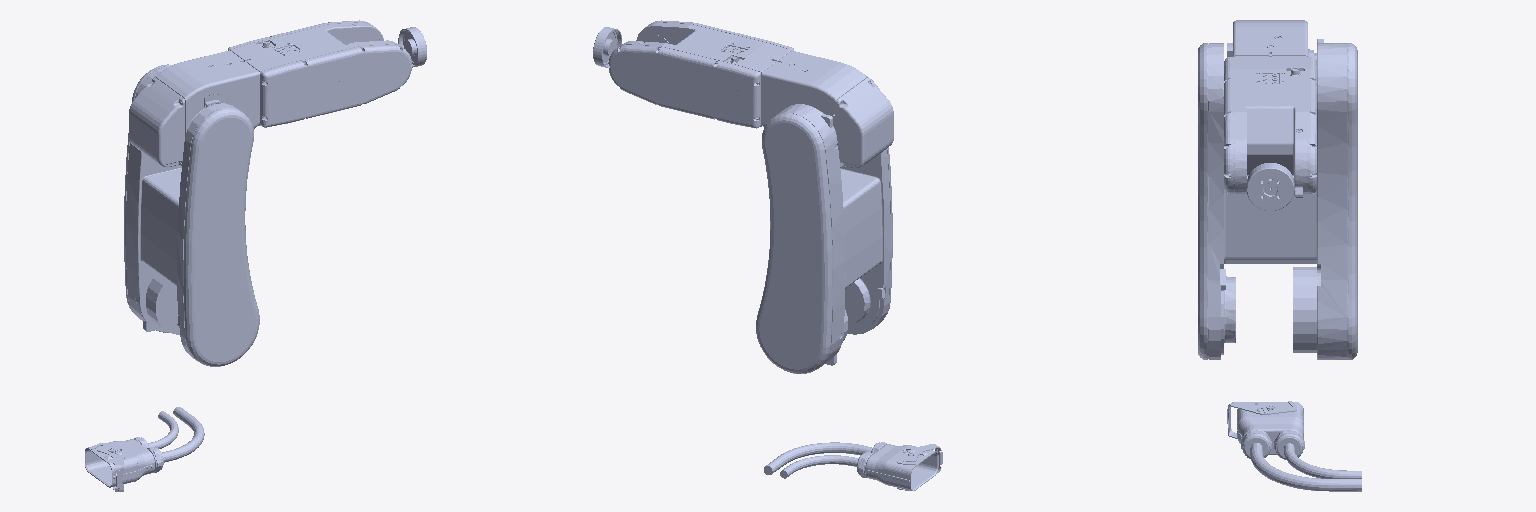
URDF robot description (RA605_710_GB):
<robot
  name="RA605_710_GB">
  <link
    name="base_link">
    <inertial>
      <origin
        xyz="0.00322329614662995 4.35236639886933E-16 -0.005"
        rpy="0 0 0" />
      <mass
        value="39.9992146018366" />
      <inertia
        ixx="13.3336666552129"
        ixy="2.73645750664298E-15"
        ixz="-2.18068724783876E-19"
        iyy="13.3336666552129"
        iyz="-4.65653775686255E-14"
        izz="26.6666666568492" />
    </inertial>
    <visual>
      <origin
        xyz="0 0 0"
        rpy="0 0 0" />
      <geometry>
        <mesh
          filename="package://RA605_710_GB/meshes/base_link.STL" />
      </geometry>
      <material
        name="">
        <color
          rgba="0.792156862745098 0.819607843137255 0.933333333333333 1" />
      </material>
    </visual>
    <collision>
      <origin
        xyz="0 0 0"
        rpy="0 0 0" />
      <geometry>
        <mesh
          filename="package://RA605_710_GB/meshes/base_link.STL" />
      </geometry>
    </collision>
  </link>
  <link
    name="base_Link">
    <inertial>
      <origin
        xyz="-0.0197115625412548 0.118584097089081 0.00272663309408005"
        rpy="0 0 0" />
      <mass
        value="50.6963005253788" />
      <inertia
        ixx="16.5548968121191"
        ixy="0.532783129588136"
        ixz="-0.00034057520373012"
        iyy="26.9234564467821"
        iyz="-0.0543017260136554"
        izz="16.7157961544257" />
    </inertial>
    <visual>
      <origin
        xyz="0 0 0"
        rpy="0 0 0" />
      <geometry>
        <mesh
          filename="package://RA605_710_GB/meshes/base_Link.STL" />
      </geometry>
      <material
        name="">
        <color
          rgba="0.792156862745098 0.819607843137255 0.933333333333333 1" />
      </material>
    </visual>
    <collision>
      <origin
        xyz="0 0 0"
        rpy="0 0 0" />
      <geometry>
        <mesh
          filename="package://RA605_710_GB/meshes/base_Link.STL" />
      </geometry>
    </collision>
  </link>
  <joint
    name="base_fix"
    type="fixed">
    <origin
      xyz="0 0 0"
      rpy="1.5707963267949 0 3.14159265358979" />
    <parent
      link="base_link" />
    <child
      link="base_Link" />
    <axis
      xyz="0 0 0" />
  </joint>
  <link
    name="wire">
    <inertial>
      <origin
        xyz="-0.0725051844188676 0.0266556692847321 0.0973200776244476"
        rpy="0 0 0" />
      <mass
        value="0.21821313758791" />
      <inertia
        ixx="0.000930045437457021"
        ixy="7.05554574080555E-08"
        ixz="-0.0003344023473386"
        iyy="0.00124404162085488"
        iyz="1.27872690899019E-07"
        izz="0.000372837191484093" />
    </inertial>
    <visual>
      <origin
        xyz="0 0 0"
        rpy="0 0 0" />
      <geometry>
        <mesh
          filename="package://RA605_710_GB/meshes/wire.STL" />
      </geometry>
      <material
        name="">
        <color
          rgba="0.792156862745098 0.819607843137255 0.933333333333333 1" />
      </material>
    </visual>
    <collision>
      <origin
        xyz="0 0 0"
        rpy="0 0 0" />
      <geometry>
        <mesh
          filename="package://RA605_710_GB/meshes/wire.STL" />
      </geometry>
    </collision>
  </link>
  <joint
    name="wire"
    type="fixed">
    <origin
      xyz="0.14178 0.09965 0.088375"
      rpy="0 -1.5708 0" />
    <parent
      link="base_Link" />
    <child
      link="wire" />
    <axis
      xyz="0 0 0" />
  </joint>
  <link
    name="Link2">
    <inertial>
      <origin
        xyz="0.019712 0.0027266 -0.10842"
        rpy="0 0 0" />
      <mass
        value="50.696" />
      <inertia
        ixx="16.555"
        ixy="0.00034058"
        ixz="-0.53278"
        iyy="16.716"
        iyz="-0.054302"
        izz="26.923" />
    </inertial>
    <visual>
      <origin
        xyz="0 0 0"
        rpy="0 0 0" />
      <geometry>
        <mesh
          filename="package://RA605_710_GB/meshes/Link2.STL" />
      </geometry>
      <material
        name="">
        <color
          rgba="0.79216 0.81961 0.93333 1" />
      </material>
    </visual>
    <collision>
      <origin
        xyz="0 0 0"
        rpy="0 0 0" />
      <geometry>
        <mesh
          filename="package://RA605_710_GB/meshes/Link2.STL" />
      </geometry>
    </collision>
  </link>
  <joint
    name="joint2"
    type="continuous">
    <origin
      xyz="0 0.227 0"
      rpy="1.5707963267949 -1.22460635382238E-16 -3.14159265358979" />
    <parent
      link="base_Link" />
    <child
      link="Link2" />
    <axis
      xyz="0 0 1" />
  </joint>
  <link
    name="Link3">
    <inertial>
      <origin
        xyz="-0.0098112 0.018062 0.15034"
        rpy="0 0 0" />
      <mass
        value="7.4696" />
      <inertia
        ixx="0.1459"
        ixy="-0.00043183"
        ixz="0.00057326"
        iyy="0.11313"
        iyz="0.00031929"
        izz="0.049061" />
    </inertial>
    <visual>
      <origin
        xyz="0 0 0"
        rpy="0 0 0" />
      <geometry>
        <mesh
          filename="package://RA605_710_GB/meshes/Link3.STL" />
      </geometry>
      <material
        name="">
        <color
          rgba="0.79216 0.81961 0.93333 1" />
      </material>
    </visual>
    <collision>
      <origin
        xyz="0 0 0"
        rpy="0 0 0" />
      <geometry>
        <mesh
          filename="package://RA605_710_GB/meshes/Link3.STL" />
      </geometry>
    </collision>
  </link>
  <joint
    name="joint3"
    type="continuous">
    <origin
      xyz="0.033223 0 0.148"
      rpy="0 0 0" />
    <parent
      link="Link2" />
    <child
      link="Link3" />
    <axis
      xyz="0 1 0" />
  </joint>
  <link
    name="Link4">
    <inertial>
      <origin
        xyz="-0.013512 0.0027266 -0.59642"
        rpy="0 0 0" />
      <mass
        value="50.696" />
      <inertia
        ixx="16.555"
        ixy="0.00034058"
        ixz="-0.53278"
        iyy="16.716"
        iyz="-0.054302"
        izz="26.923" />
    </inertial>
    <visual>
      <origin
        xyz="0 0 0"
        rpy="0 0 0" />
      <geometry>
        <mesh
          filename="package://RA605_710_GB/meshes/Link4.STL" />
      </geometry>
      <material
        name="">
        <color
          rgba="0.79216 0.81961 0.93333 1" />
      </material>
    </visual>
    <collision>
      <origin
        xyz="0 0 0"
        rpy="0 0 0" />
      <geometry>
        <mesh
          filename="package://RA605_710_GB/meshes/Link4.STL" />
      </geometry>
    </collision>
  </link>
  <joint
    name="joint4"
    type="continuous">
    <origin
      xyz="0 0 0.34"
      rpy="0 0 0" />
    <parent
      link="Link3" />
    <child
      link="Link4" />
    <axis
      xyz="0 1 0" />
  </joint>
  <link
    name="Link5">
    <inertial>
      <origin
        xyz="0.11355 -4.9558E-05 -6.7458E-05"
        rpy="0 0 0" />
      <mass
        value="2.9699" />
      <inertia
        ixx="0.0070689"
        ixy="7.7383E-06"
        ixz="-1.1277E-06"
        iyy="0.017626"
        iyz="4.1381E-06"
        izz="0.019679" />
    </inertial>
    <visual>
      <origin
        xyz="0 0 0"
        rpy="0 0 0" />
      <geometry>
        <mesh
          filename="package://RA605_710_GB/meshes/Link5.STL" />
      </geometry>
      <material
        name="">
        <color
          rgba="0.79216 0.81961 0.93333 1" />
      </material>
    </visual>
    <collision>
      <origin
        xyz="0 0 0"
        rpy="0 0 0" />
      <geometry>
        <mesh
          filename="package://RA605_710_GB/meshes/Link5.STL" />
      </geometry>
    </collision>
  </link>
  <joint
    name="joint5"
    type="continuous">
    <origin
      xyz="0.09900000000002 0 0.0399999999979752"
      rpy="0 0 0" />
    <parent
      link="Link4" />
    <child
      link="Link5" />
    <axis
      xyz="1 0 0" />
  </joint>
  <link
    name="Link6">
    <inertial>
      <origin
        xyz="0.03645 0.00025111 -0.016042"
        rpy="0 0 0" />
      <mass
        value="1" />
      <inertia
        ixx="1.8401E-10"
        ixy="7.8323E-26"
        ixz="-4.0836E-27"
        iyy="2.0089E-12"
        iyz="2.1784E-14"
        izz="1.8201E-10" />
    </inertial>
    <visual>
      <origin
        xyz="0 0 0"
        rpy="0 0 0" />
      <geometry>
        <mesh
          filename="package://RA605_710_GB/meshes/Link6.STL" />
      </geometry>
      <material
        name="">
        <color
          rgba="0.79216 0.81961 0.93333 1" />
      </material>
    </visual>
    <collision>
      <origin
        xyz="0 0 0"
        rpy="0 0 0" />
      <geometry>
        <mesh
          filename="package://RA605_710_GB/meshes/Link6.STL" />
      </geometry>
    </collision>
  </link>
  <joint
    name="joint6"
    type="continuous">
    <origin
      xyz="0.239000000000001 0 0"
      rpy="0 0 0" />
    <parent
      link="Link5" />
    <child
      link="Link6" />
    <axis
      xyz="1 0 0" />
  </joint>
  <link
    name="Link7">
    <inertial>
      <origin
        xyz="-0.006961 7.9999E-08 -5.6016E-05"
        rpy="0 0 0" />
      <mass
        value="0.039323" />
      <inertia
        ixx="2.1351E-05"
        ixy="-4.0583E-12"
        ixz="7.3243E-09"
        iyy="1.1532E-05"
        iyz="2.0856E-12"
        izz="1.1567E-05" />
    </inertial>
    <visual>
      <origin
        xyz="0 0 0"
        rpy="0 0 0" />
      <geometry>
        <mesh
          filename="package://RA605_710_GB/meshes/Link7.STL" />
      </geometry>
      <material
        name="">
        <color
          rgba="0.79216 0.81961 0.93333 1" />
      </material>
    </visual>
    <collision>
      <origin
        xyz="0 0 0"
        rpy="0 0 0" />
      <geometry>
        <mesh
          filename="package://RA605_710_GB/meshes/Link7.STL" />
      </geometry>
    </collision>
  </link>
  <joint
    name="joint7"
    type="continuous">
    <origin
      xyz="0.0864999999999757 0 0"
      rpy="0 0 0" />
    <parent
      link="Link6" />
    <child
      link="Link7" />
    <axis
      xyz="1 0 0" />
  </joint>
</robot>

--- Render facts (derived) ---
The picture shows the robot from 3 angles, left to right: view 1: azimuth 30°, elevation 25°; view 2: azimuth 150°, elevation 25°; view 3: azimuth 270°, elevation 25°; orthographic projection.
Robot: RA605_710_GB — 9 links, 8 joints (6 continuous, 2 fixed); root link base_link; default pose: all joints at 0.
Links seen in each view (by area): view 1: Link3, Link5, Link4, wire, Link7; view 2: Link3, Link5, Link4, wire, Link7; view 3: Link3, Link5, wire, Link4, Link7.
Link boxes in pixels (x1,y1,x2,y2): Link3: [124, 64, 259, 366]; Link5: [228, 20, 411, 127]; Link4: [129, 50, 259, 166]; wire: [85, 407, 204, 491]; Link7: [398, 27, 426, 67]; Link3: [756, 74, 892, 373]; Link5: [608, 20, 793, 128]; Link4: [762, 51, 893, 167]; wire: [764, 442, 942, 490]; Link7: [593, 27, 621, 67]; Link3: [1198, 39, 1357, 359]; Link5: [1224, 56, 1316, 197]; wire: [1227, 401, 1361, 491]; Link4: [1227, 20, 1313, 56]; Link7: [1247, 163, 1294, 210].
Bounding box of the posed robot: 0.6111 × 0.2259 × 0.7145 m (x, y, z).
6 mesh visuals loaded from 9 distinct referenced files (6 binary STL); not drawn: 3 (reference not matched to a file when rendering).